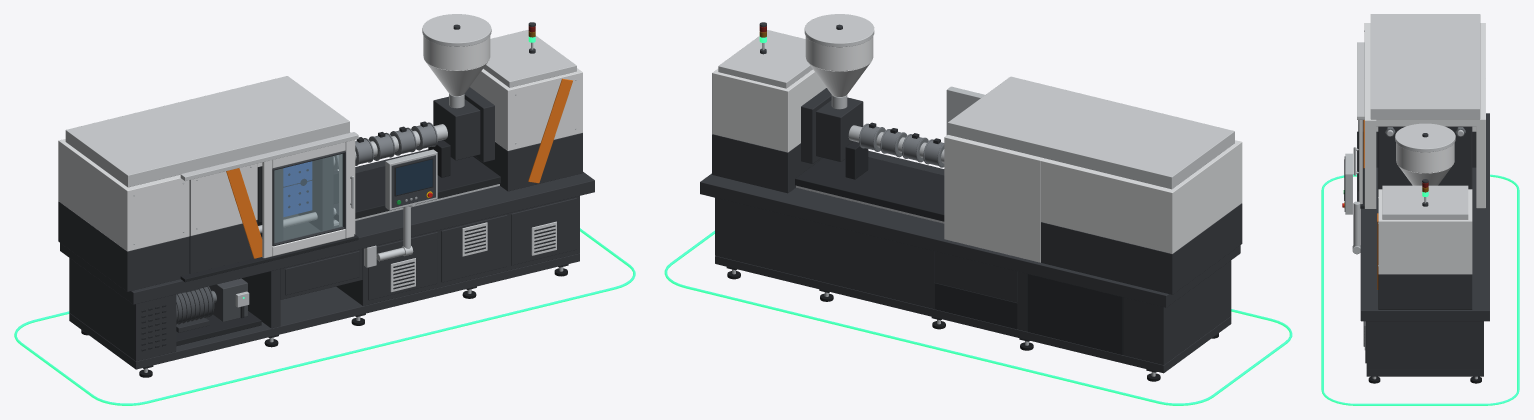
The model's file is imm_draco.glb.
3 renders of one model, left to right at view 1: azimuth 30°, elevation 25°; view 2: azimuth 150°, elevation 25°; view 3: azimuth 270°, elevation 25°, orthographic. The views are drawn at different scales.
Parts seen in each view (by area): view 1: IMM_ClampGuard, IMM_Base, IMM_InjectionCover, IMM_InjectionUnit, IMM_SafetyGate_Glass, IMM_Hopper, IMM_SafetyGate_Frame, IMM_Motor, IMM_StatusRing, IMM_FixedPlaten, IMM_HMI_Pendant, IMM_Pump (+6 smaller); view 2: IMM_ClampGuard, IMM_Base, IMM_InjectionCover, IMM_InjectionUnit, IMM_Hopper, IMM_StatusRing, IMM_HMI_Pendant, IMM_LevelingFeet; view 3: IMM_ClampGuard, IMM_Base, IMM_InjectionCover, IMM_Hopper, IMM_FixedPlaten, IMM_StatusRing, IMM_HMI_Pendant, IMM_SafetyGate_Frame, IMM_HMI_Arm.
Boxes of the visible parts, <box> form: IMM_ClampGuard: <box>58,76,358,291</box>; IMM_Base: <box>60,149,594,369</box>; IMM_InjectionCover: <box>470,30,582,191</box>; IMM_InjectionUnit: <box>333,87,500,221</box>; IMM_SafetyGate_Glass: <box>274,154,342,242</box>; IMM_Hopper: <box>422,14,491,108</box>; IMM_SafetyGate_Frame: <box>262,140,354,258</box>; IMM_Motor: <box>176,286,261,345</box>; IMM_StatusRing: <box>14,228,635,405</box>; IMM_FixedPlaten: <box>258,156,336,233</box>; IMM_HMI_Pendant: <box>385,149,437,210</box>; IMM_Pump: <box>209,278,247,321</box>; IMM_ClampGuard: <box>944,76,1242,294</box>; IMM_Base: <box>700,150,1240,373</box>; IMM_InjectionCover: <box>712,30,826,193</box>; IMM_InjectionUnit: <box>795,88,944,221</box>; IMM_Hopper: <box>804,14,874,109</box>; IMM_StatusRing: <box>664,230,1292,405</box>; IMM_HMI_Pendant: <box>946,86,984,134</box>; IMM_LevelingFeet: <box>726,267,1218,381</box>; IMM_ClampGuard: <box>1357,14,1485,208</box>; IMM_Base: <box>1360,113,1489,376</box>; IMM_InjectionCover: <box>1377,185,1472,309</box>; IMM_Hopper: <box>1395,123,1455,185</box>; IMM_FixedPlaten: <box>1378,126,1472,189</box>; IMM_StatusRing: <box>1321,174,1519,405</box>; IMM_HMI_Pendant: <box>1342,153,1352,214</box>; IMM_SafetyGate_Frame: <box>1353,120,1362,204</box>; IMM_HMI_Arm: <box>1352,201,1360,254</box>.
Size of the model in its own units: 5.57 by 2.42 by 2.02.
